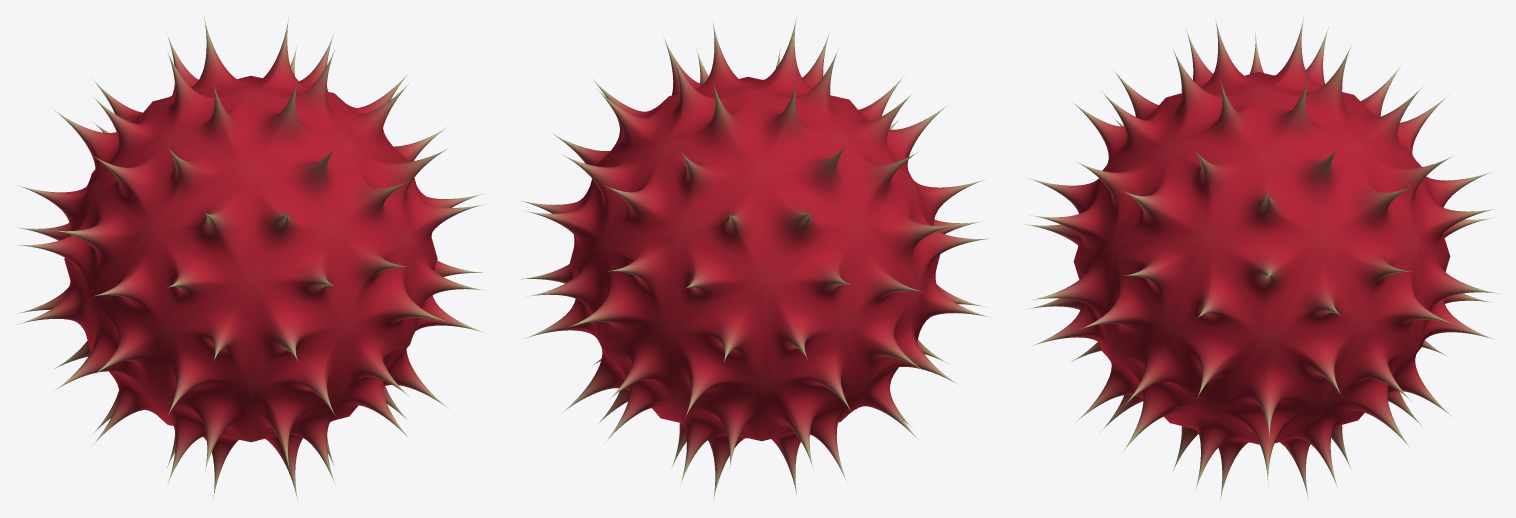
The model's file is Rambutan.fbx.
3 views of the same model, side by side, from view 1: azimuth 30°, elevation 25°; view 2: azimuth 150°, elevation 25°; view 3: azimuth 270°, elevation 25° (orthographic).
Parts seen in each view (by area): view 1: Picture_29; view 2: Picture_29; view 3: Picture_29.
Boxes of the visible parts, x1,y1,x2,y2 form: Picture_29: (17,16,484,501); Picture_29: (517,17,992,500); Picture_29: (1025,18,1498,499).
Size of the model in its own units: 140 by 140 by 141.
1 material, 1 textured.
